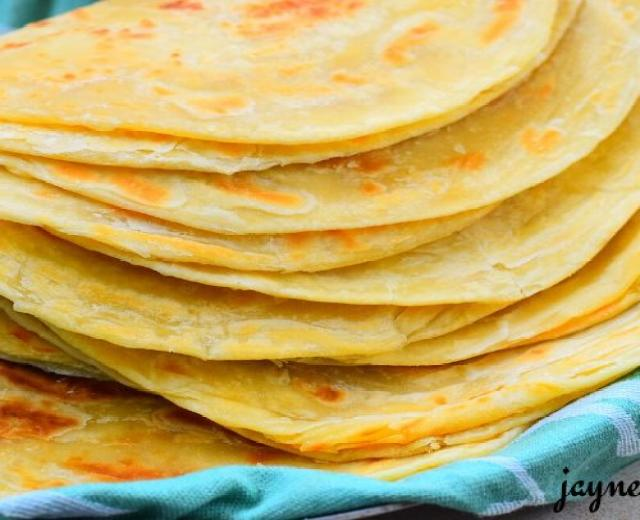chapati: (0, 0, 639, 459)
